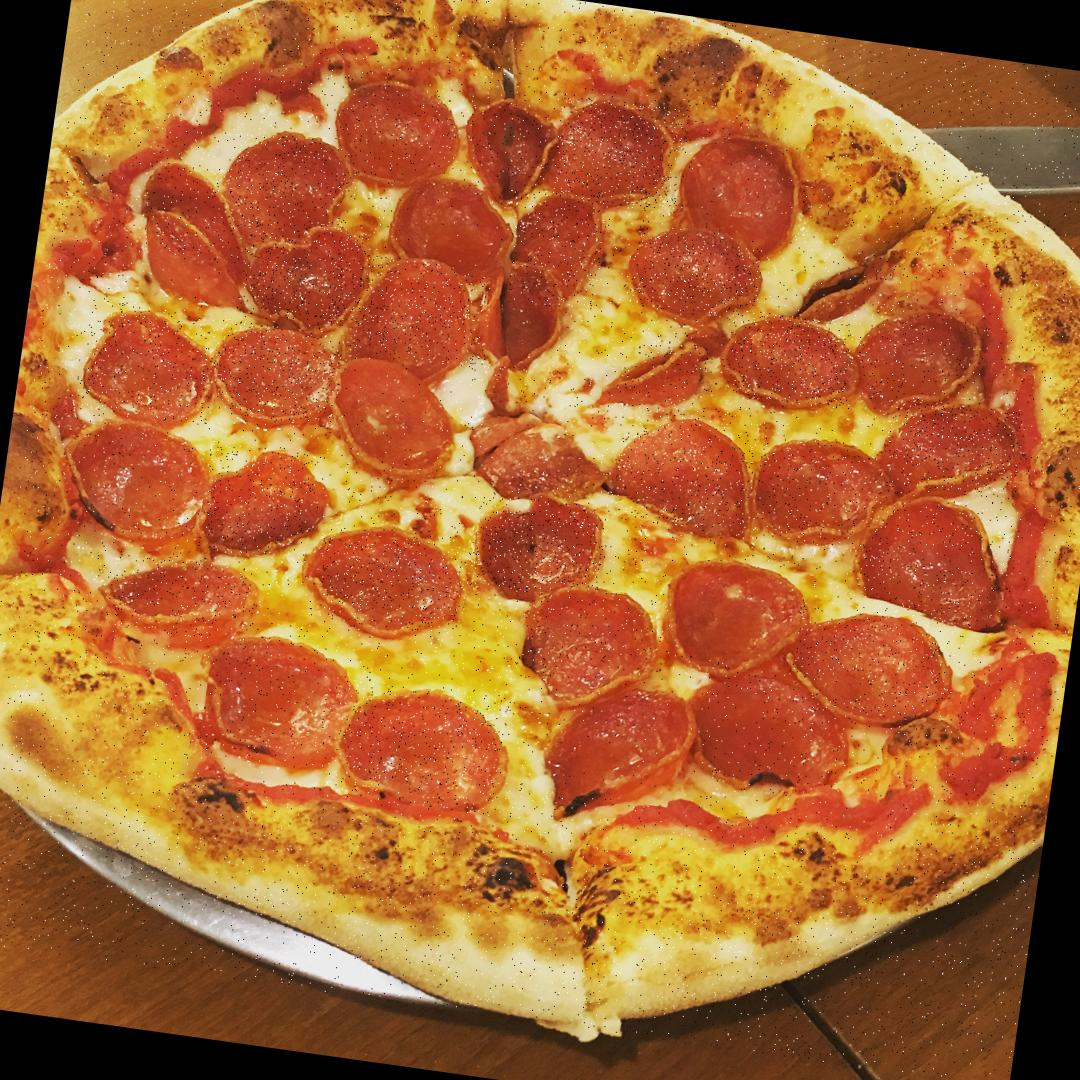Pepperoni: (198, 624, 366, 776), (330, 679, 511, 817), (58, 405, 218, 549), (684, 658, 852, 793), (848, 496, 1022, 626), (539, 674, 703, 810), (788, 598, 956, 725), (606, 404, 758, 534), (76, 296, 224, 427), (329, 352, 473, 484), (350, 254, 491, 385), (308, 527, 472, 637), (750, 434, 894, 554), (549, 93, 688, 214), (667, 558, 814, 672), (330, 72, 468, 188), (850, 304, 986, 420), (879, 396, 1027, 502), (222, 128, 358, 242), (196, 442, 322, 564), (471, 492, 610, 602), (212, 318, 350, 428), (516, 580, 660, 684), (681, 136, 806, 255), (236, 218, 370, 328), (385, 168, 514, 279), (105, 548, 254, 644), (136, 200, 252, 320), (466, 397, 602, 498), (723, 309, 856, 411), (507, 186, 609, 312), (137, 160, 251, 267), (628, 232, 763, 322), (602, 322, 713, 408), (463, 91, 553, 195), (486, 260, 565, 372)
Pizza: (0, 0, 1080, 1080)
